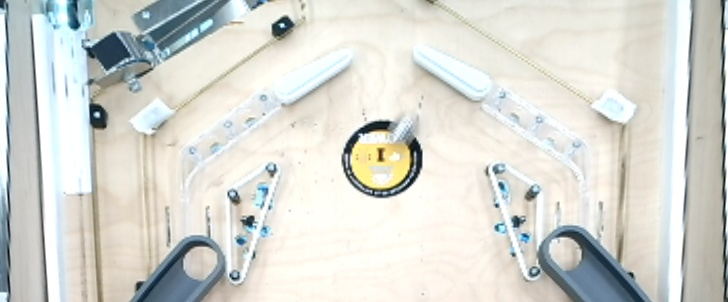ball: (386, 107, 423, 146)
flipper-left: (409, 41, 497, 104)
flipper-right: (266, 46, 356, 109)
